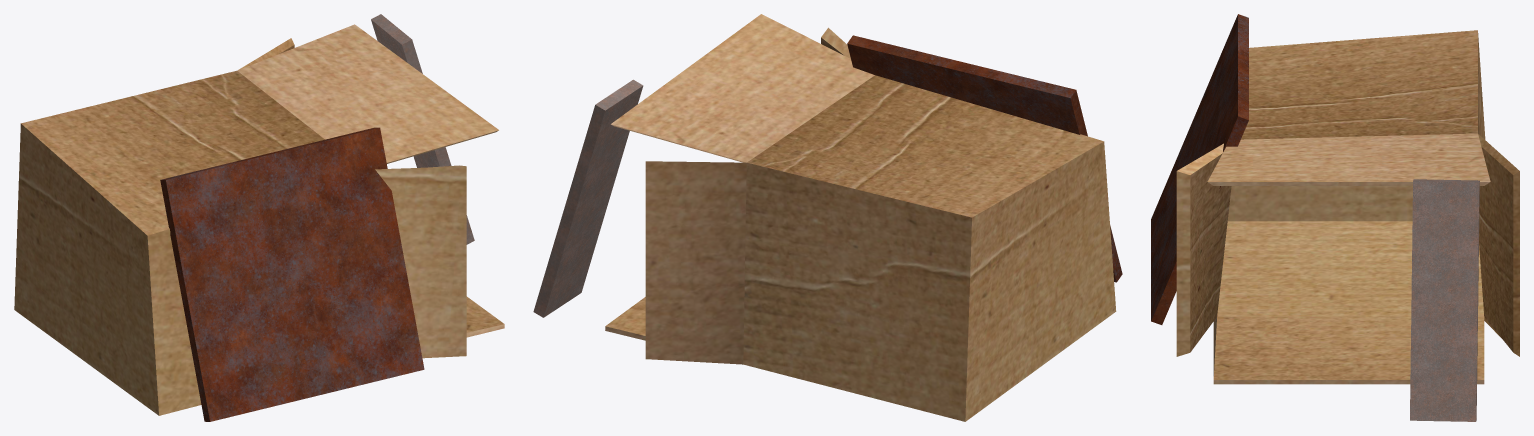
The model's file is ENV_shanty_box_shelter.fbx.
3 renders of one model, left to right at view 1: azimuth 30°, elevation 25°; view 2: azimuth 150°, elevation 25°; view 3: azimuth 270°, elevation 25°, orthographic. The views are drawn at different scales.
Parts seen in each view (by area): view 1: ENV_thin_panel_2; view 2: ENV_thin_panel_2; view 3: ENV_thin_panel_2.
Boxes of the visible parts, x1,y1,x2,y2 form: ENV_thin_panel_2: [14, 14, 504, 421]; ENV_thin_panel_2: [533, 14, 1122, 421]; ENV_thin_panel_2: [1151, 14, 1519, 421].
Bounding box in the file's own units: 48.73 × 24.81 × 37.66.
Materials: 3 (3 with a texture image).
